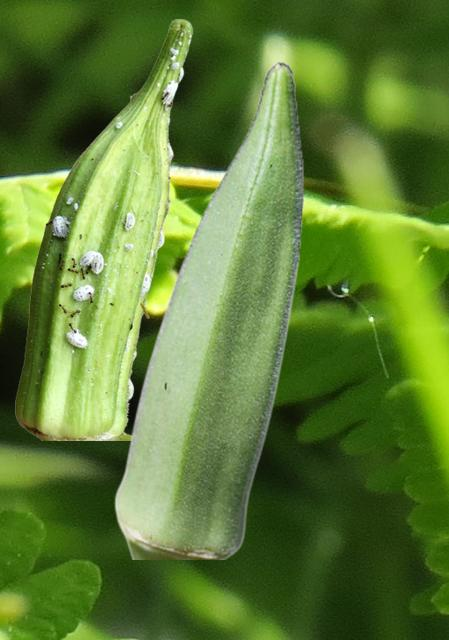okra: (114, 61, 303, 558), (15, 19, 192, 439)
